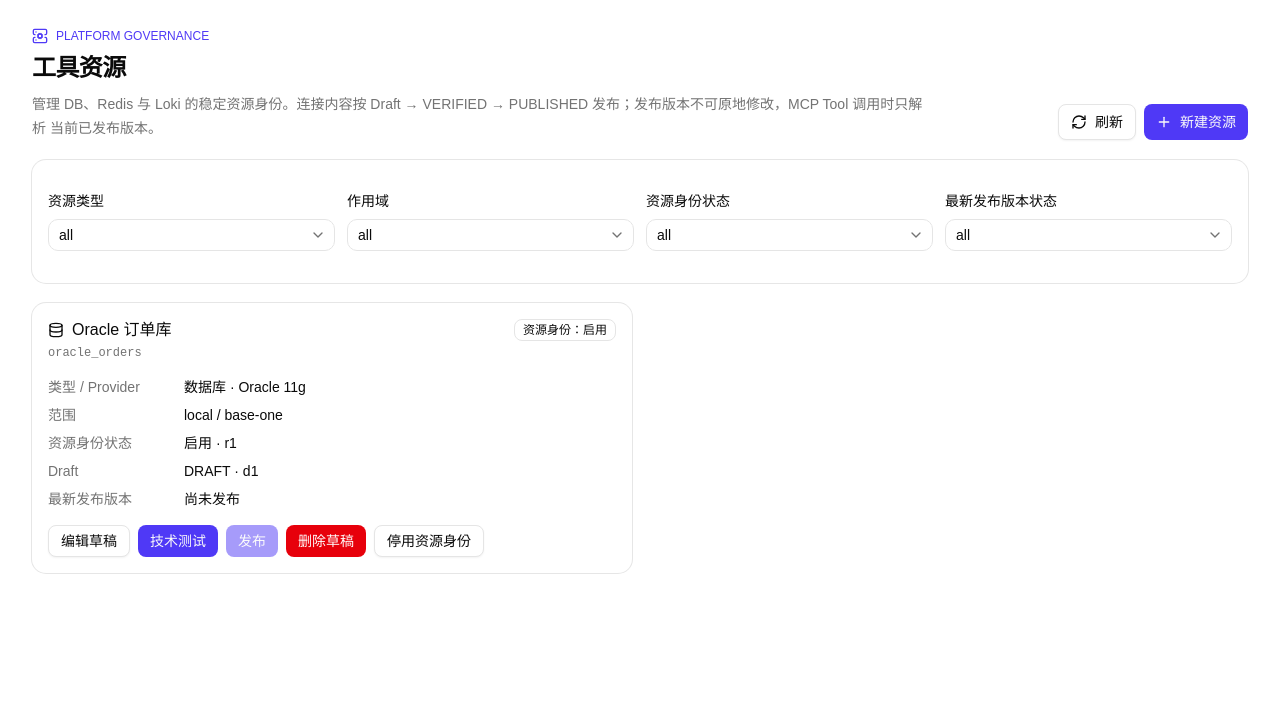
Test: Phase 5 platform governance UI › shows the technical verification status and safe failure reason
The width and height of the screenshot is (1280, 720).
Check: the text "Oracle 订单库" is shown, box [48,319,172,341]
What coordinates should you click on to do the following:
click the button "技术测试"
I would click on:
 (178, 541)
Its box is [138,525,218,557].
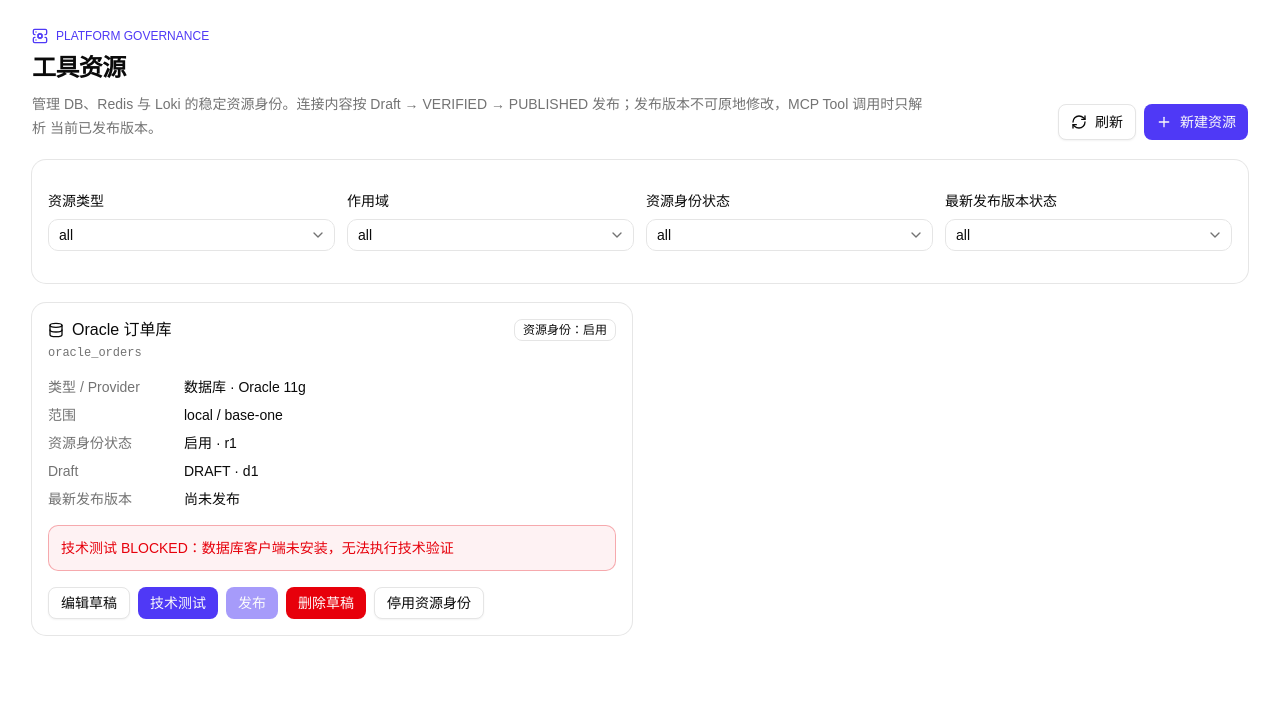
Check: the text "技术测试 BLOCKED：数据库客户端未安装，无法执行技术验证" is shown, box [48,525,616,571]
